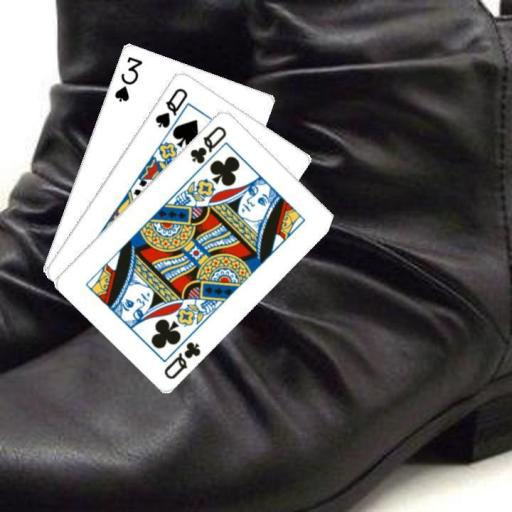card-corner: (186, 122, 228, 165), (160, 338, 202, 380), (152, 84, 189, 129), (111, 53, 144, 103)
